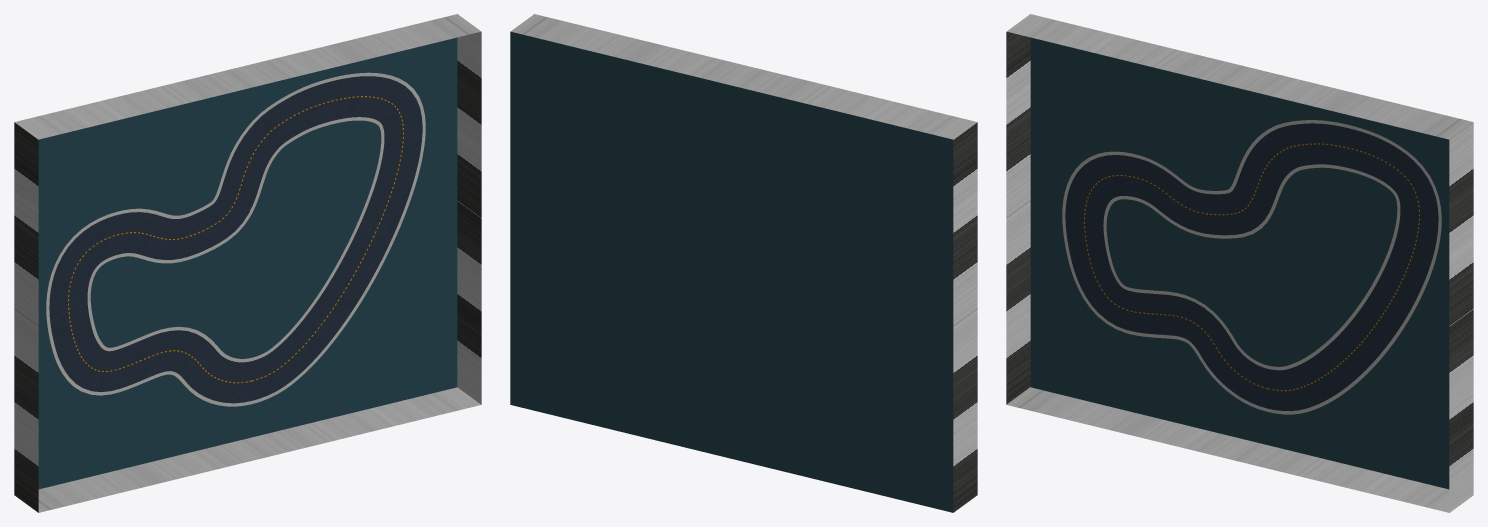
Rendered from reInvent2019_track.obj.
The picture shows the model from 3 angles, left to right: view 1: azimuth 30°, elevation 25°; view 2: azimuth 150°, elevation 25°; view 3: azimuth 330°, elevation 25°; orthographic projection.
Parts seen in each view (by area): view 1: fieldmesh0, wallmesh0, roadmesh0, ilmesh0, olmesh0, clmesh0; view 2: fieldmesh0, wallmesh0; view 3: fieldmesh0, wallmesh0, roadmesh0, ilmesh0, olmesh0, clmesh0.
Part boxes in pixels (x1=…): fieldmesh0: x1=38, y1=37, x2=457, y2=489; wallmesh0: x1=14, y1=14, x2=481, y2=512; roadmesh0: x1=49, y1=76, x2=422, y2=403; ilmesh0: x1=46, y1=72, x2=425, y2=406; olmesh0: x1=87, y1=117, x2=384, y2=362; clmesh0: x1=68, y1=96, x2=403, y2=383; fieldmesh0: x1=510, y1=31, x2=953, y2=512; wallmesh0: x1=511, y1=14, x2=977, y2=512; fieldmesh0: x1=1030, y1=37, x2=1449, y2=489; wallmesh0: x1=1006, y1=14, x2=1473, y2=512; roadmesh0: x1=1065, y1=123, x2=1438, y2=411; ilmesh0: x1=1062, y1=120, x2=1441, y2=414; olmesh0: x1=1103, y1=164, x2=1400, y2=370; clmesh0: x1=1084, y1=143, x2=1419, y2=391.
Bounding box in the file's own units: 10.64 × 8.56 × 1.
